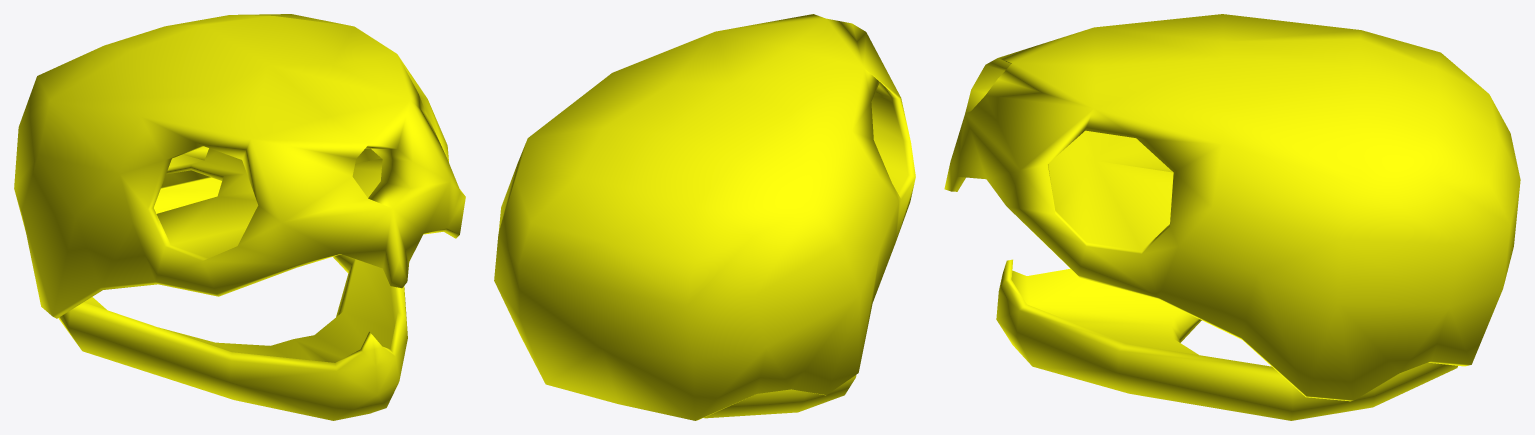
File: bone_turtle_head00.glb
3 renders of one model, left to right at view 1: azimuth 30°, elevation 25°; view 2: azimuth 150°, elevation 25°; view 3: azimuth 270°, elevation 25°, orthographic. The views are drawn at different scales.
Visible parts, largest first — view 1: bone_turtle_head00; view 2: bone_turtle_head00; view 3: bone_turtle_head00.
Boxes of the visible parts, x1=… form: bone_turtle_head00: x1=14, y1=14, x2=465, y2=420; bone_turtle_head00: x1=494, y1=14, x2=915, y2=420; bone_turtle_head00: x1=944, y1=14, x2=1520, y2=420.
Size of the model in its own units: 2.09 by 1.52 by 2.6.
Materials: 1 (1 with a texture image).
